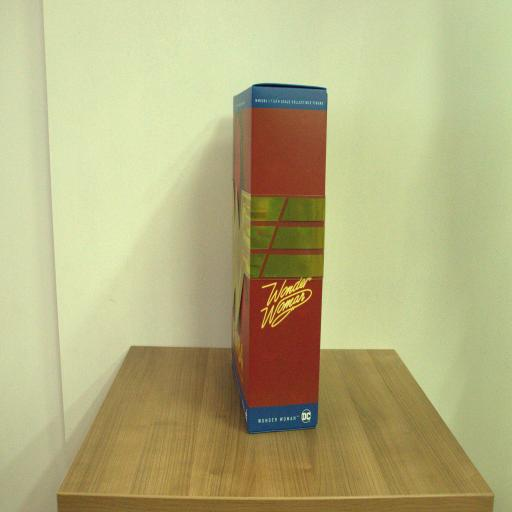WonderWoman: (231, 80, 329, 433)
